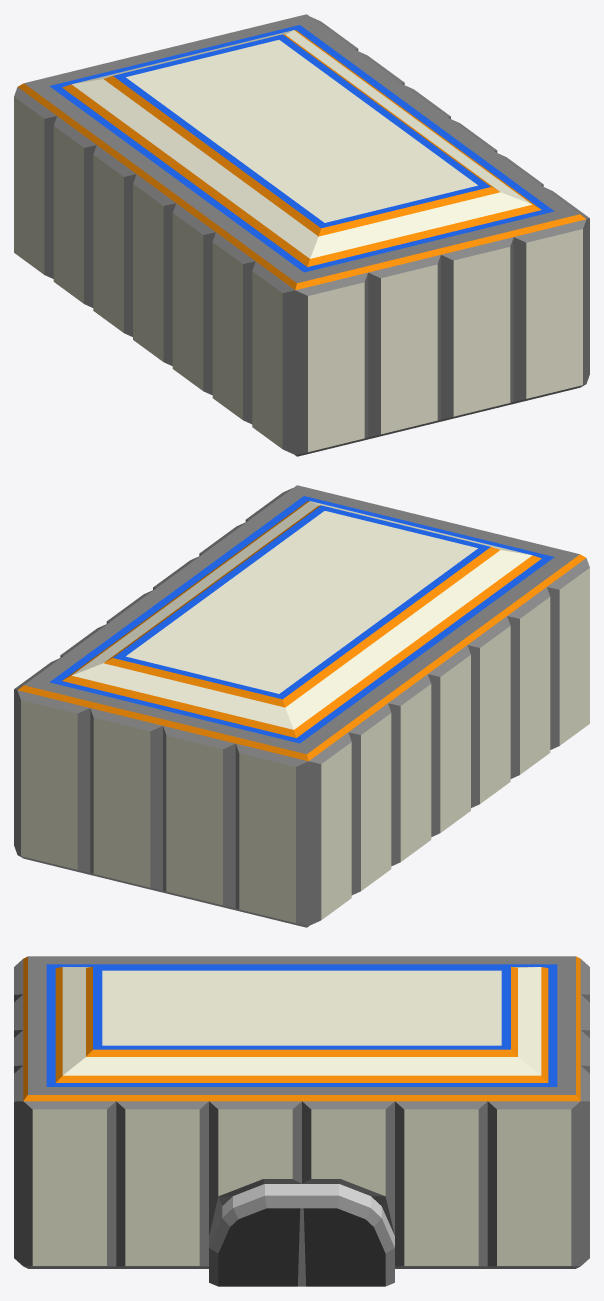
File: Environment_A_Placement.fbx
The picture shows the model from 3 angles, top to bottom: view 1: azimuth 30°, elevation 25°; view 2: azimuth 150°, elevation 25°; view 3: azimuth 270°, elevation 25°; orthographic projection.
Parts seen in each view (by area): view 1: Cube; view 2: Cube; view 3: Cube.
Part boxes in pixels (x1,y1,x2,y2): Cube: [14, 14, 589, 456]; Cube: [14, 485, 589, 927]; Cube: [14, 956, 589, 1286].
Bounding box in the file's own units: 2 × 1.1 × 3.
